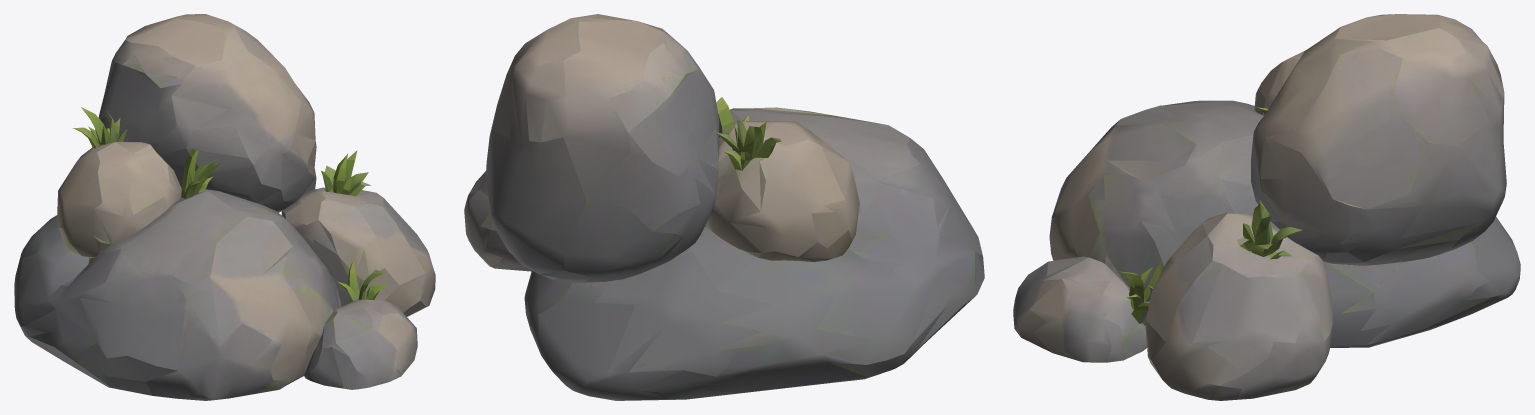
Rendered from rock-pile-small.glb.
3 renders of one model, left to right at view 1: azimuth 30°, elevation 25°; view 2: azimuth 150°, elevation 25°; view 3: azimuth 270°, elevation 25°, orthographic. The views are drawn at different scales.
Visible parts, largest first — view 1: rock-pile-small-fit; view 2: rock-pile-small-fit; view 3: rock-pile-small-fit.
Part boxes in pixels (x1,y1,x2,y2): rock-pile-small-fit: (14, 14, 435, 400); rock-pile-small-fit: (464, 14, 984, 400); rock-pile-small-fit: (1013, 14, 1520, 400).
Bounding box in the file's own units: 0.8102 × 0.5 × 0.8078.
1 material, 1 textured.
